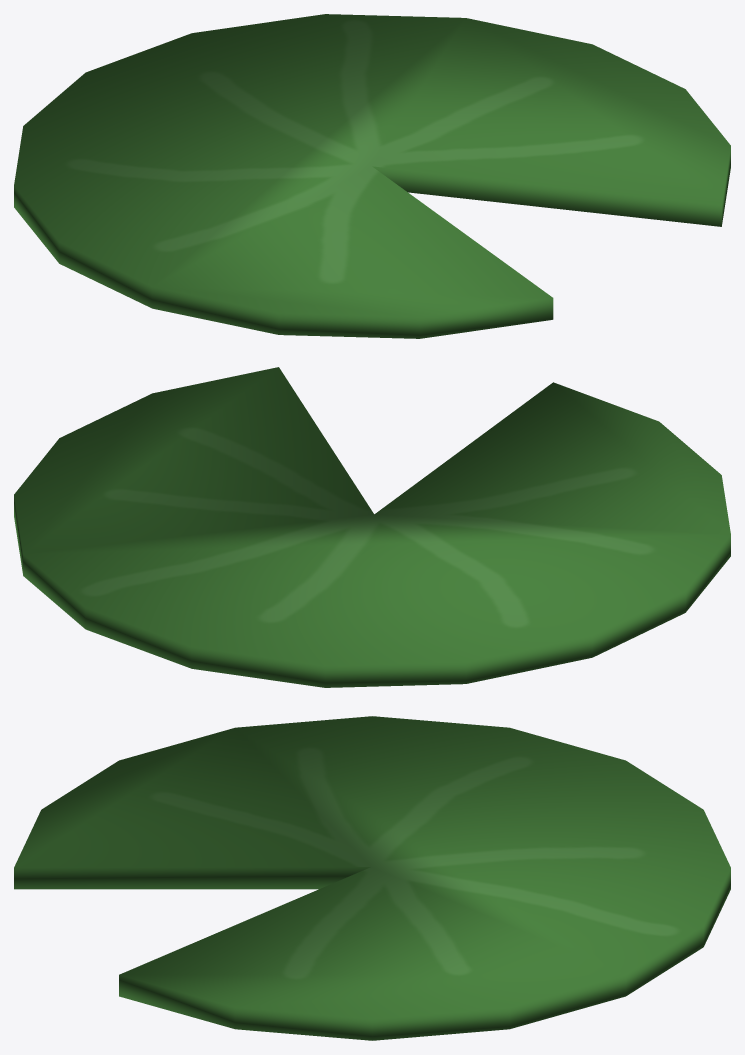
Rendered from lilypad.fbx.
3 views of the same model, one above another, from view 1: azimuth 30°, elevation 25°; view 2: azimuth 150°, elevation 25°; view 3: azimuth 270°, elevation 25° (orthographic).
Parts seen in each view (by area): view 1: Cylinder; view 2: Cylinder; view 3: Cylinder.
Part boxes in pixels (x1,y1,x2,y2): Cylinder: (14, 14, 730, 338); Cylinder: (14, 367, 730, 687); Cylinder: (14, 716, 730, 1040).
Bounding box in the file's own units: 600 × 20 × 600.
